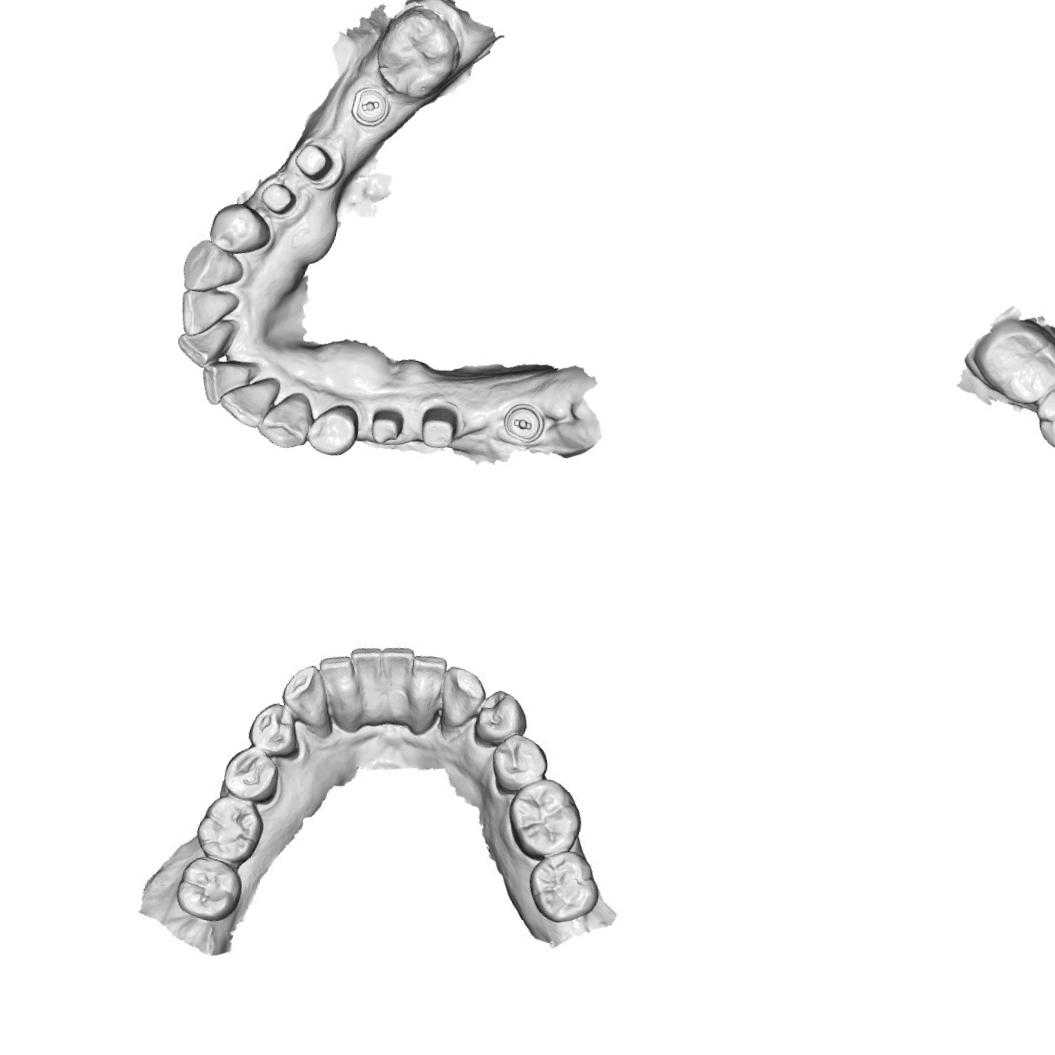abutment: (284, 133, 348, 192), (413, 390, 466, 458), (251, 172, 305, 228), (363, 396, 415, 452)
canine: (254, 380, 321, 455), (177, 234, 250, 301), (432, 660, 493, 732), (274, 659, 336, 727)
implant_minus: (496, 396, 551, 451), (345, 82, 394, 133)
incisor: (212, 365, 282, 436), (168, 310, 238, 372), (174, 283, 243, 345), (192, 350, 254, 413), (337, 638, 388, 712), (402, 644, 454, 713), (308, 646, 359, 713), (369, 640, 420, 698)
molar: (368, 0, 466, 106), (964, 310, 1055, 411), (498, 769, 588, 866), (520, 843, 606, 929), (191, 787, 268, 867), (170, 850, 247, 926), (1025, 368, 1055, 469)
premolar: (485, 728, 553, 802), (204, 196, 278, 261), (466, 680, 533, 750), (216, 740, 282, 806), (303, 392, 364, 462), (243, 698, 306, 764)
